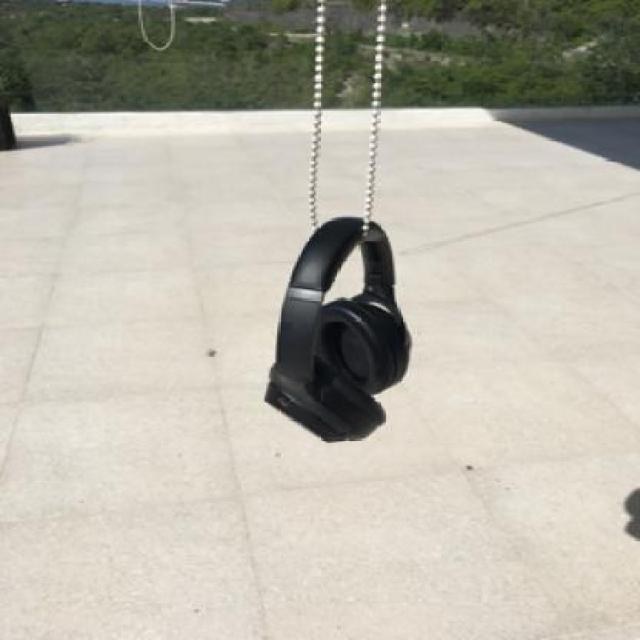earphone: (260, 178, 432, 497)
